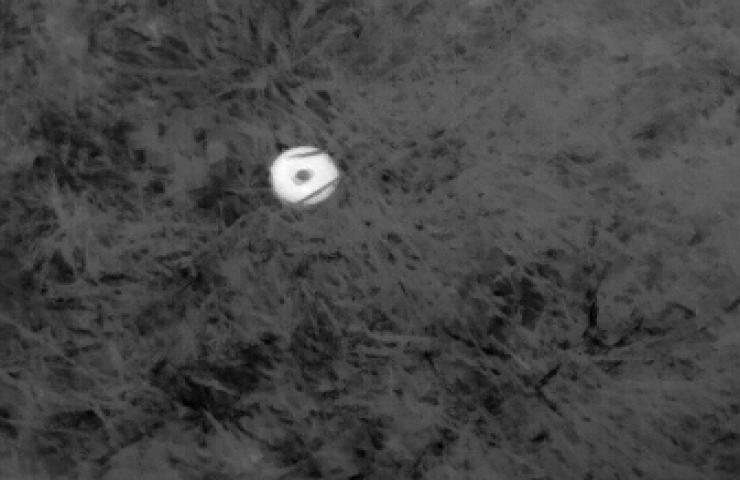landmines: (264, 139, 348, 211)
